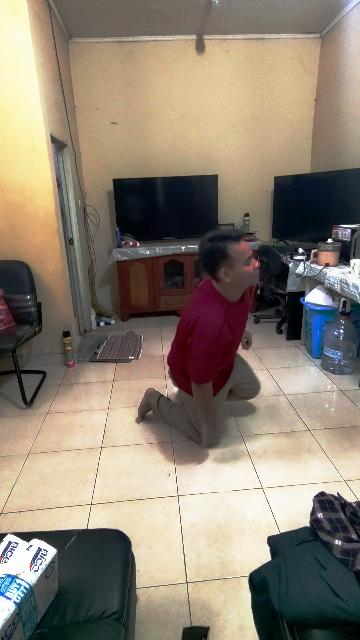jatuh: (138, 230, 264, 456)
